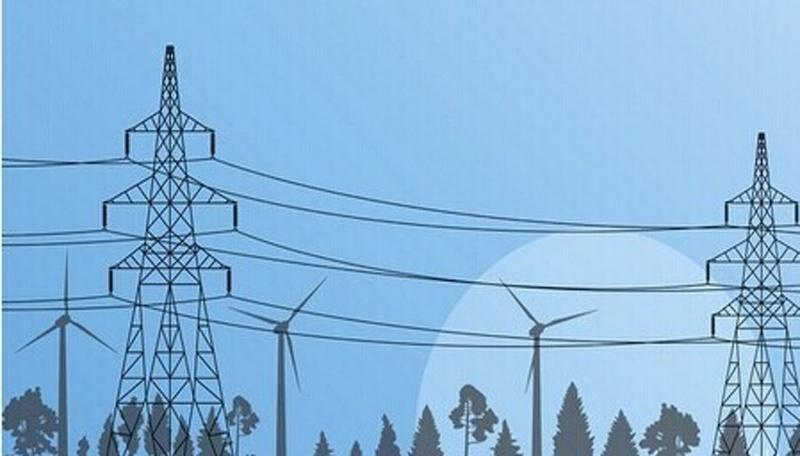power_tower: (100, 37, 241, 441), (710, 127, 794, 448)
